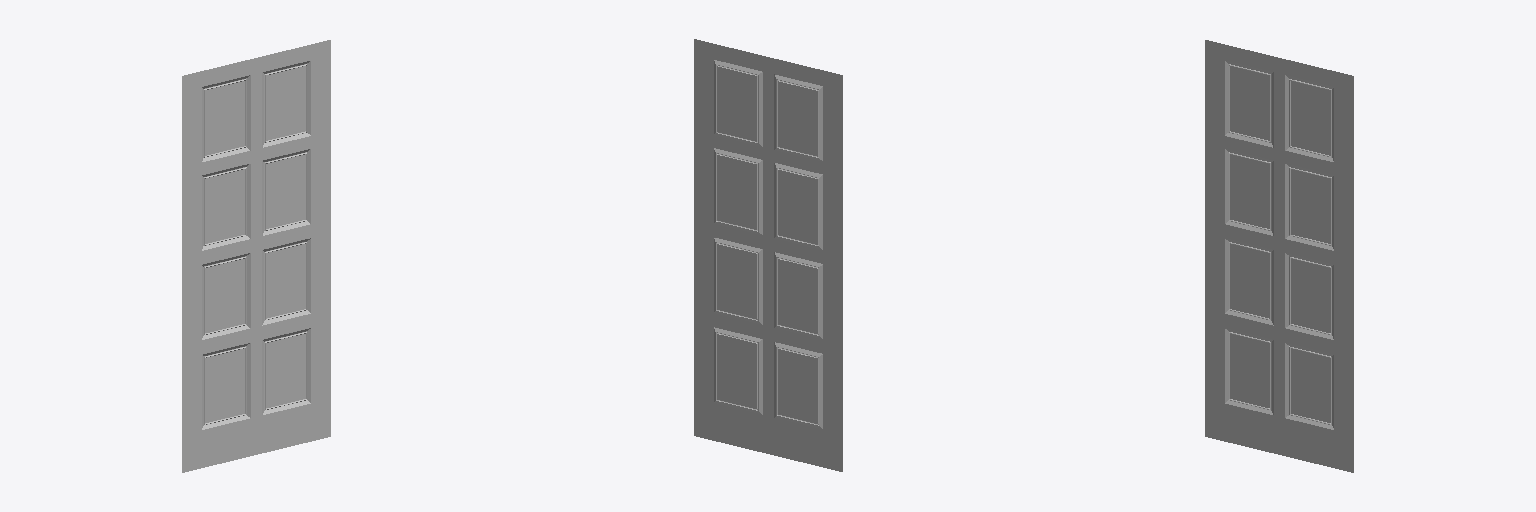
File: SmallDoor.obj
3 views of the same model, side by side, from view 1: azimuth 30°, elevation 25°; view 2: azimuth 150°, elevation 25°; view 3: azimuth 330°, elevation 25° (orthographic).
Parts seen in each view (by area): view 1: SmallDoor; view 2: SmallDoor; view 3: SmallDoor.
Boxes of the visible parts, box(x1,y1,x2,y2) form: SmallDoor: box(182, 40, 330, 472); SmallDoor: box(694, 39, 842, 471); SmallDoor: box(1205, 40, 1353, 472).
Bounding box in the file's own units: 3.69 × 9.36 × 0.0443.